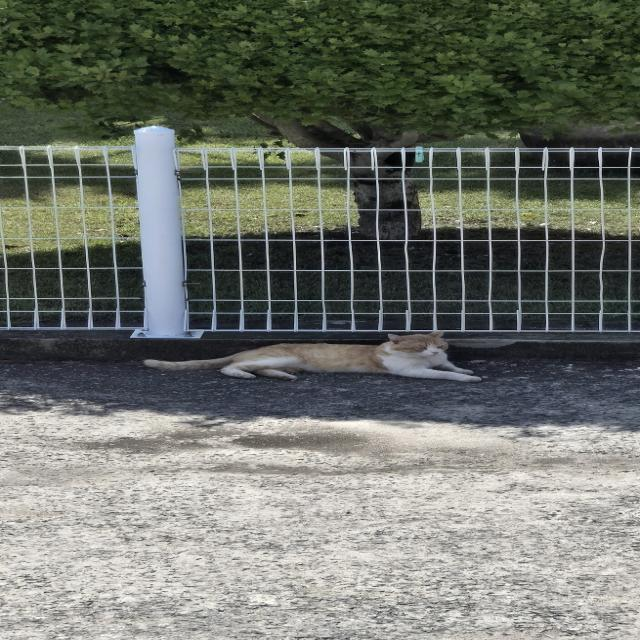cat: (140, 332, 491, 384)
